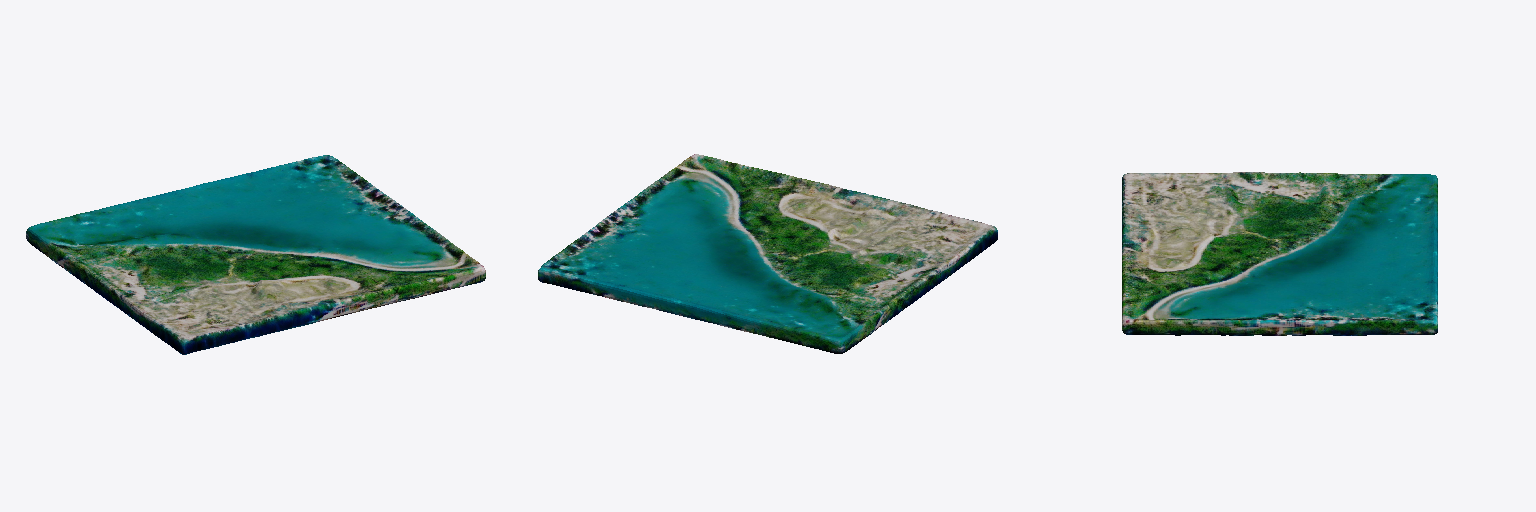
The picture shows the model from 3 angles: view 1: azimuth 30°, elevation 25°; view 2: azimuth 150°, elevation 25°; view 3: azimuth 270°, elevation 25°; orthographic projection.
Parts seen in each view (by area): view 1: mesh; view 2: mesh; view 3: mesh.
Boxes of the visible parts, x1=… form: mesh: x1=26, y1=155, x2=485, y2=354; mesh: x1=538, y1=154, x2=997, y2=353; mesh: x1=1122, y1=172, x2=1437, y2=335.
Size of the model in its own units: 0.9998 by 0.0665 by 0.896.
Materials: 1 (1 with a texture image).